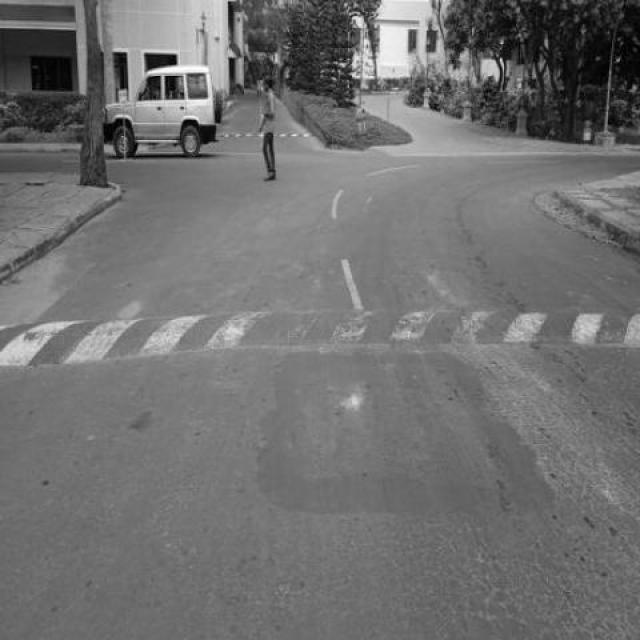Speed Bump: (0, 305, 639, 368)
